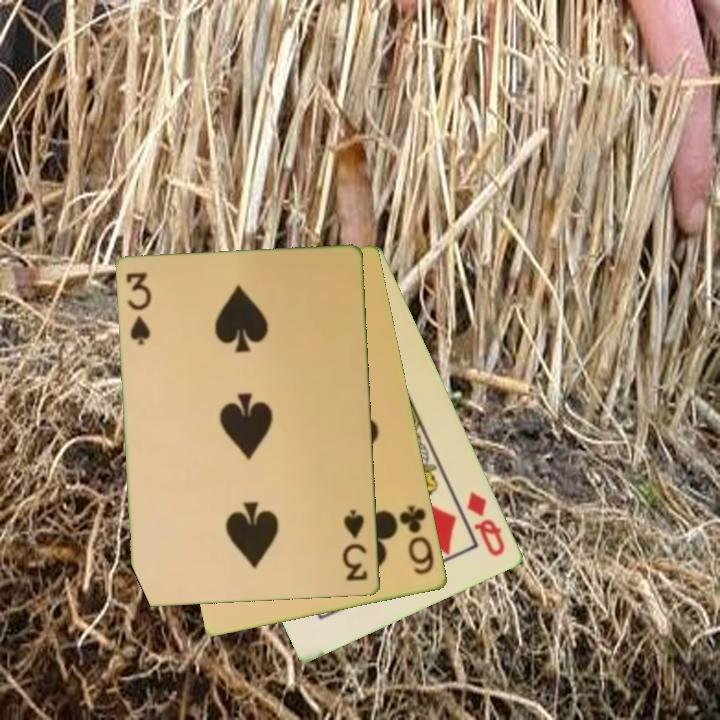3s: (123, 268, 155, 349), (340, 507, 371, 584)
6c: (396, 501, 438, 578)
Qd: (464, 487, 509, 560)
